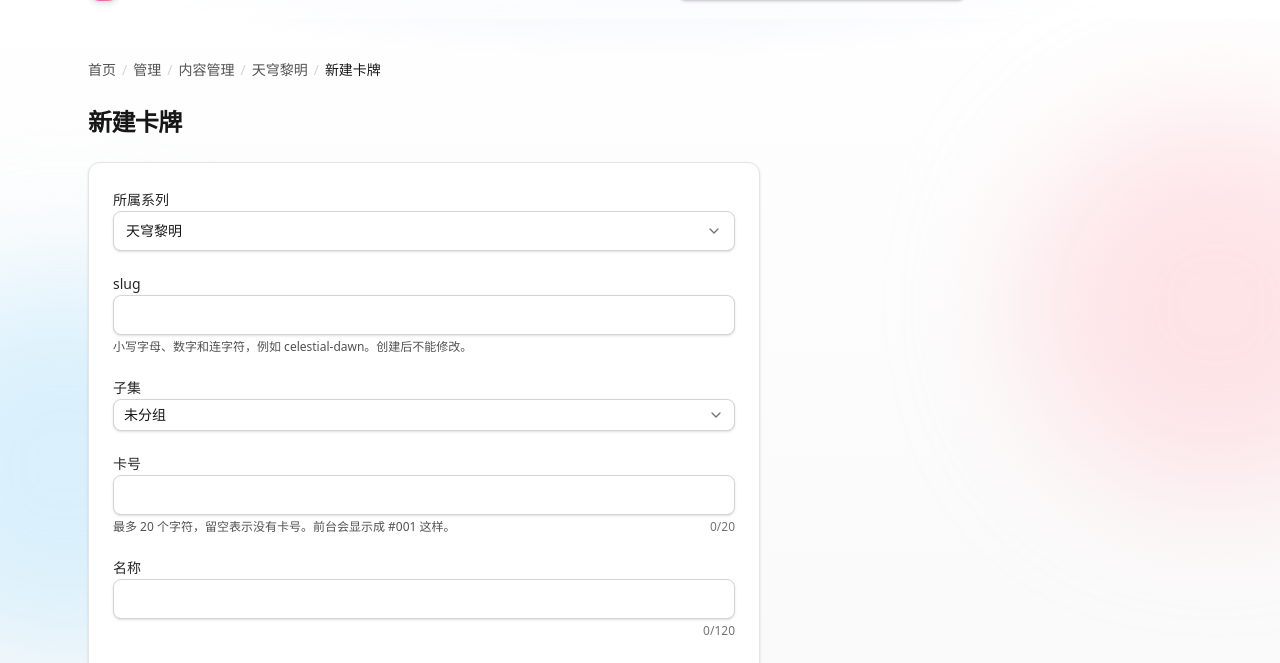
Scenario: card form server validation › shows a field-level zod error instead of only the generic save failure
Step 1. Type "aurora-knight" into the field labelled "slug" → (424, 315), box [113,295,735,335]
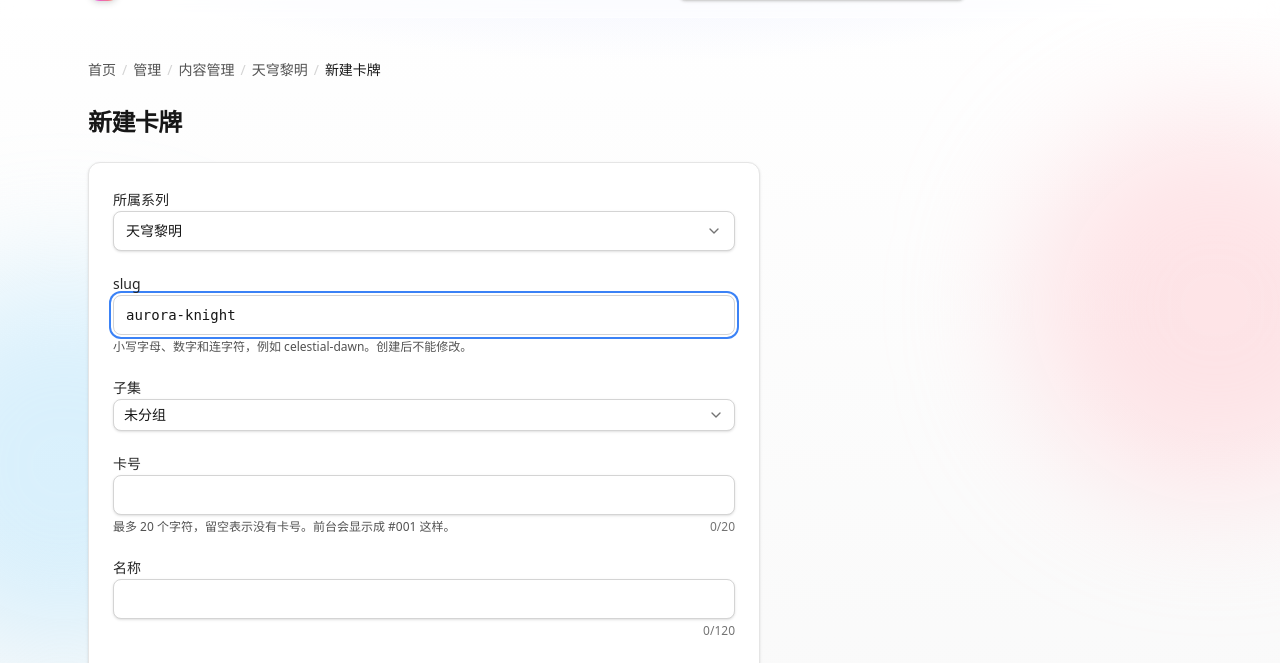
Step 2. Type "极光骑士" into the field labelled "名称" → (424, 599), box [113,579,735,619]
(page scrolled)
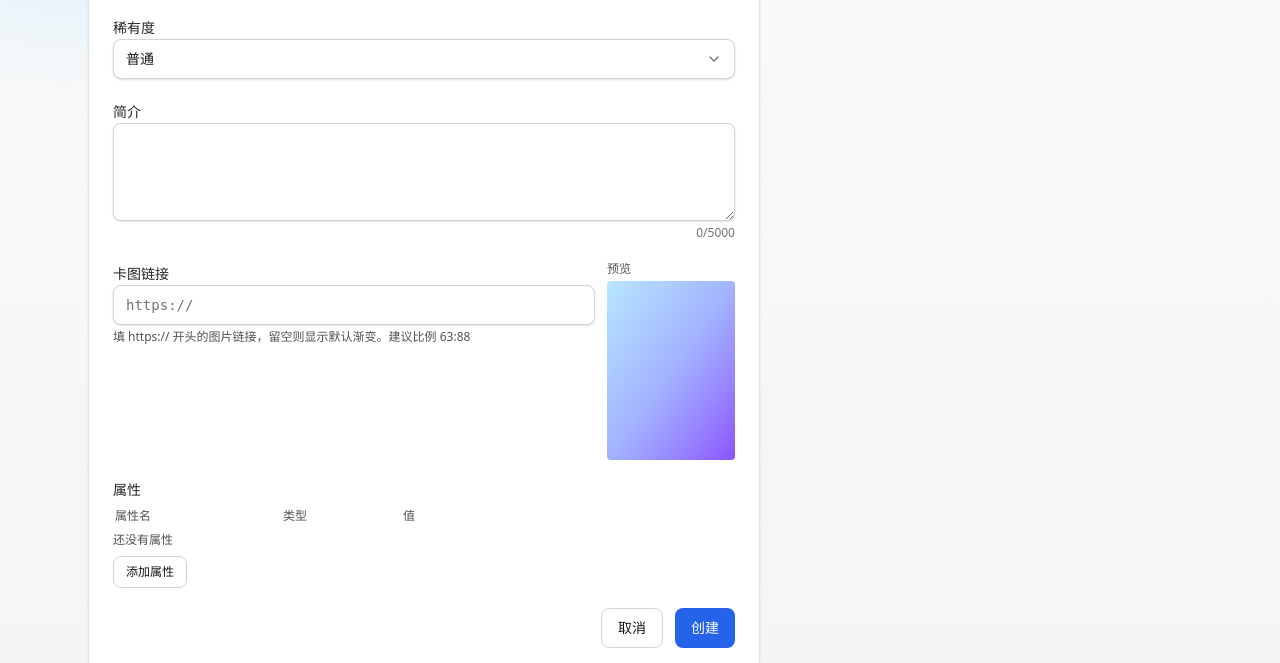
Step 3. Click the button "创建" → (705, 628), box [675,608,735,648]
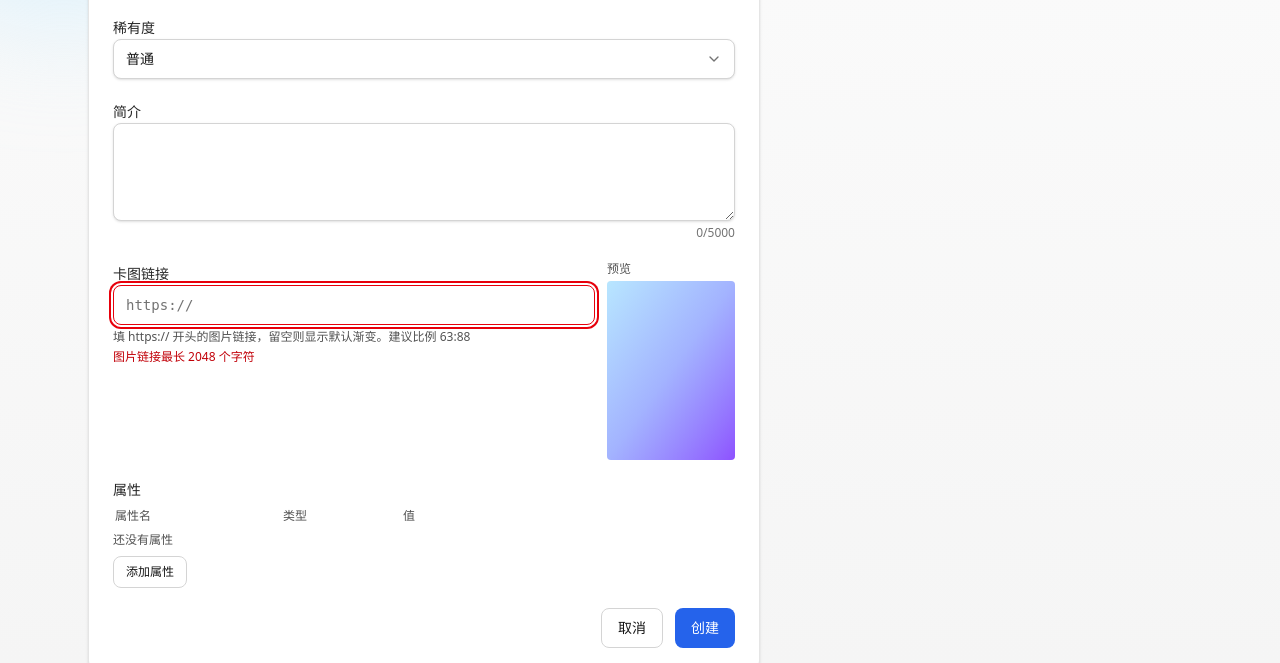
Expected: the text "图片链接最长 2048 个字符" is shown, [113,348,255,365]
